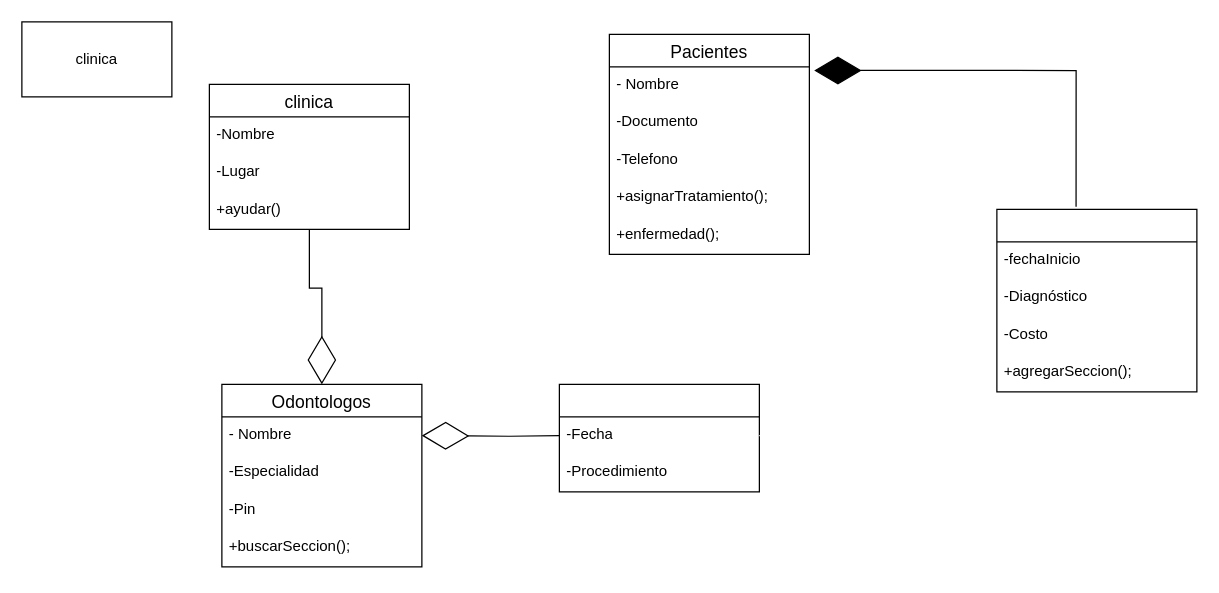
This 1219x593 diagram has some shape labels left out. Each missing label, with the box of its shape:
Secciones: (558, 383, 759, 492)
Tratamiento: (996, 208, 1197, 392)
